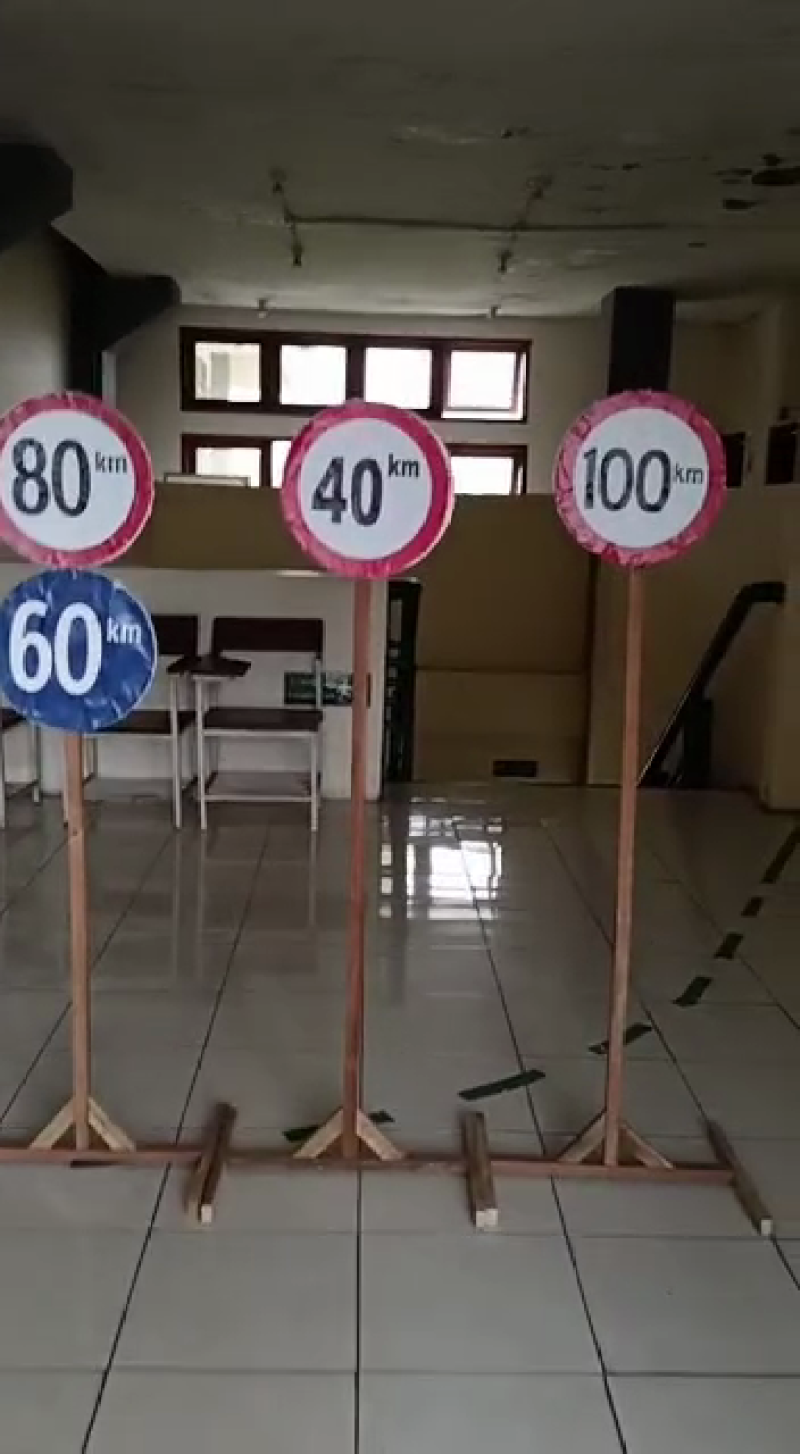batas maksimal 100kmperjam: (548, 385, 733, 585)
batas maksimal 40kmperjam: (276, 409, 459, 583)
batas maksimal 80kmperjam minimal 60kmperjam: (1, 374, 172, 742)
